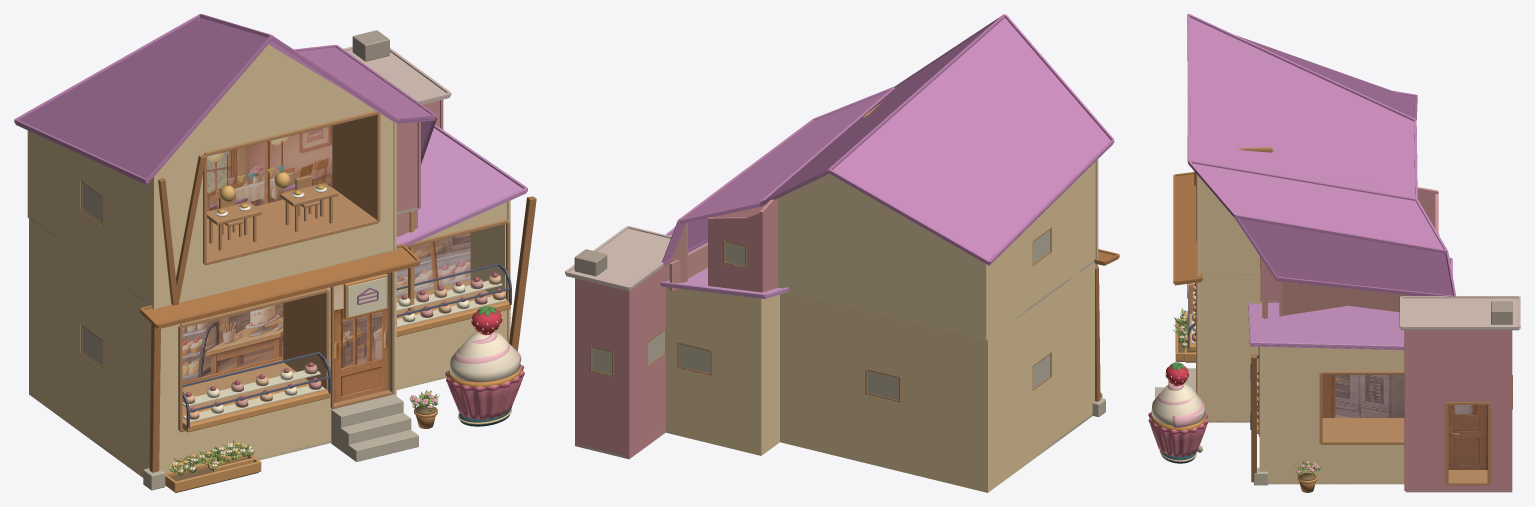
Rendered from 10-A-308ddc172f4a.glb.
3 views of the same model, side by side, from view 1: azimuth 30°, elevation 25°; view 2: azimuth 150°, elevation 25°; view 3: azimuth 270°, elevation 25° (orthographic). The views are drawn at different scales.
Visible parts, largest first — view 1: SM_10_01_建筑墙体, SM_10_04_门窗楼梯, SM_10_02_曲面屋顶, SM_10_06_景观设施, SM_10_03_木构回廊, SM_10_06_门前充气招牌, SM_10_05_景观植物; view 2: SM_10_01_建筑墙体, SM_10_02_曲面屋顶, SM_10_04_门窗楼梯, SM_10_03_木构回廊, SM_10_06_景观设施; view 3: SM_10_02_曲面屋顶, SM_10_01_建筑墙体, SM_10_04_门窗楼梯, SM_10_06_门前充气招牌, SM_10_03_木构回廊, SM_10_05_景观植物, SM_10_06_景观设施.
Boxes of the visible parts, bbox=[...] form: SM_10_01_建筑墙体: bbox=[27, 20, 507, 477]; SM_10_04_门窗楼梯: bbox=[81, 110, 511, 461]; SM_10_02_曲面屋顶: bbox=[14, 14, 527, 329]; SM_10_06_景观设施: bbox=[182, 30, 510, 432]; SM_10_03_木构回廊: bbox=[143, 99, 536, 490]; SM_10_06_门前充气招牌: bbox=[445, 306, 524, 426]; SM_10_05_景观植物: bbox=[165, 317, 511, 492]; SM_10_01_建筑墙体: bbox=[575, 133, 1095, 492]; SM_10_02_曲面屋顶: bbox=[565, 14, 1119, 298]; SM_10_04_门窗楼梯: bbox=[590, 102, 1051, 402]; SM_10_03_木构回廊: bbox=[1092, 159, 1105, 416]; SM_10_06_景观设施: bbox=[574, 249, 607, 276]; SM_10_02_曲面屋顶: bbox=[1173, 14, 1520, 350]; SM_10_01_建筑墙体: bbox=[1200, 175, 1512, 492]; SM_10_04_门窗楼梯: bbox=[1155, 147, 1512, 485]; SM_10_06_门前充气招牌: bbox=[1148, 362, 1208, 463]; SM_10_03_木构回廊: bbox=[1194, 171, 1407, 490]; SM_10_05_景观植物: bbox=[1172, 308, 1322, 492]; SM_10_06_景观设施: bbox=[1188, 283, 1512, 433].
Size of the model in its own units: 11.96 by 11.21 by 10.63.
44 materials, 1 textured.
